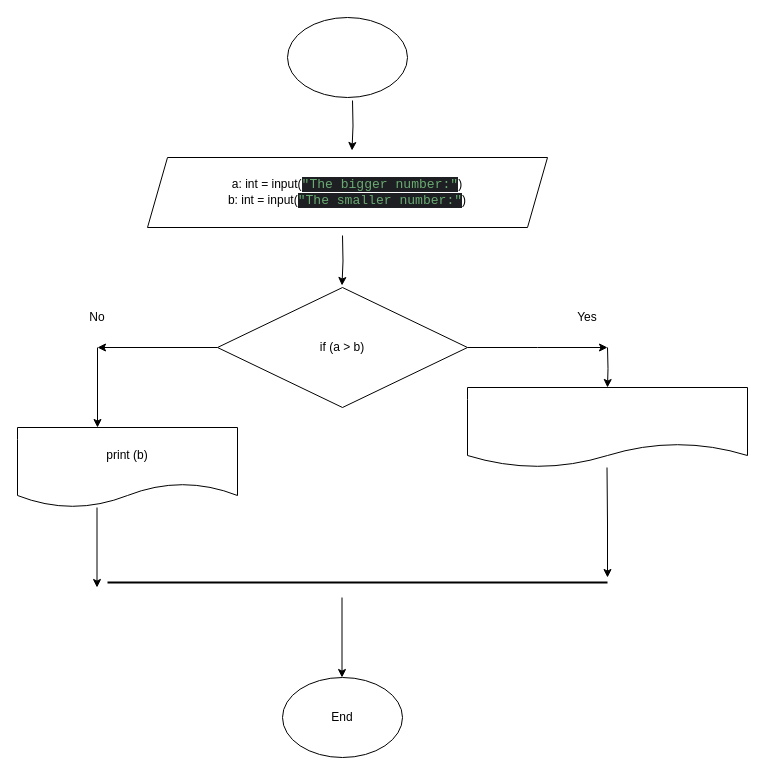
Image size: 765x775. Some labels were removed from this diagram. The shapes that lost their labels are listed below. From the top down, each one's centre as x and y in pixels, then its label:
the point at 347,57: START
the point at 607,427: print (a)
